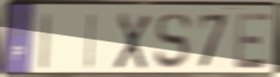7: (197, 11, 231, 71)
E: (233, 10, 273, 71)
I: (39, 10, 53, 72), (84, 11, 97, 71)
S: (153, 11, 193, 71)
X: (112, 11, 153, 72)
